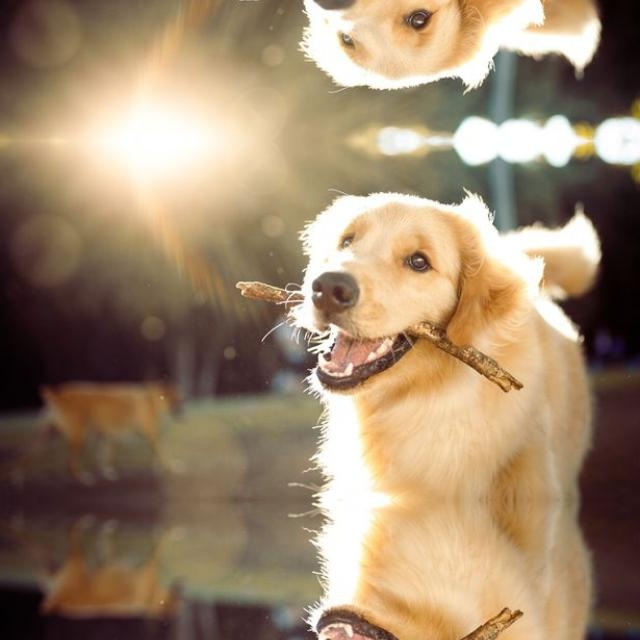dog: (265, 170, 491, 393), (265, 0, 491, 110), (265, 605, 491, 640)
